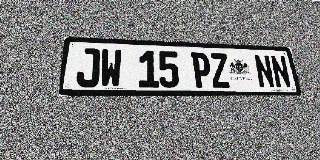1: (138, 50, 159, 88)
5: (158, 51, 180, 88)
J: (76, 48, 100, 87)
N: (253, 54, 276, 88), (270, 55, 292, 88)
P: (191, 52, 212, 88)
W: (99, 49, 122, 88)
Z: (209, 53, 231, 88)
